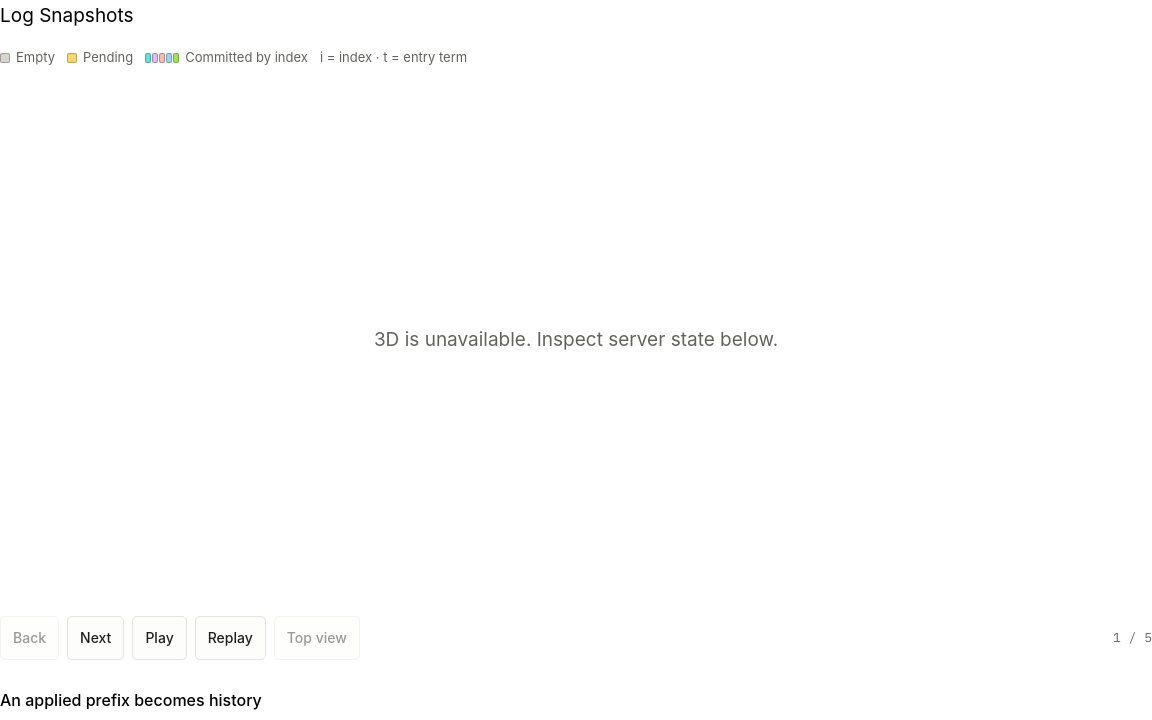
Test: consensus walkthrough playback › opens the complete HTML state and keeps controls working when WebGL fails
Expected: the text "3D is unavailable. Inspect server state below." is shown, [374,328,778,350]
Click the button "Next" at (96, 638), box [67,616,124,660]
(page scrolled)
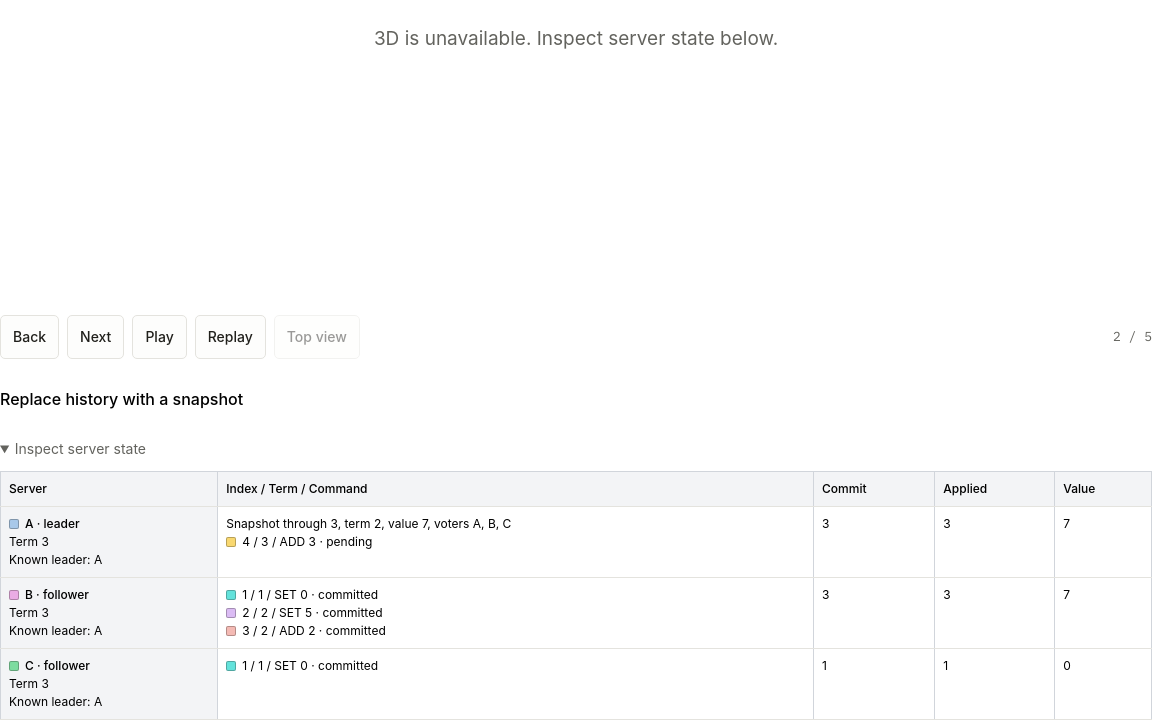
Result: the message reads "Replace history with a snapshot" at [0,388,243,408]
Result: the table shows "Snapshot through" at [226,516,331,530]
